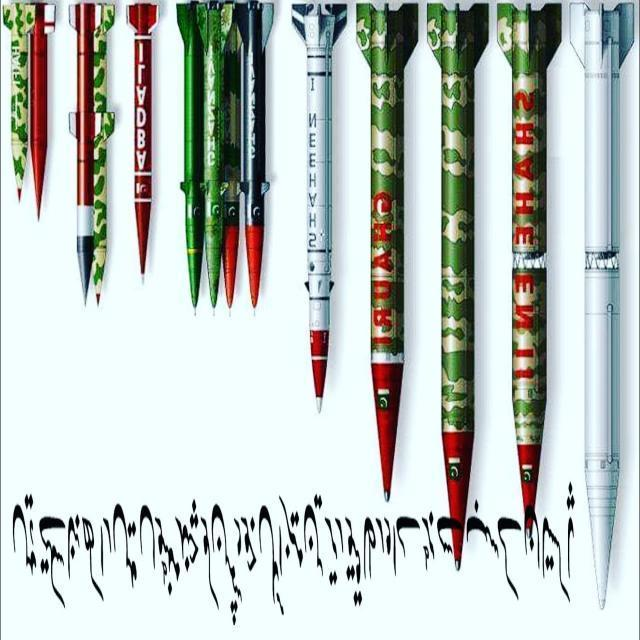Missile: (425, 0, 491, 571)
